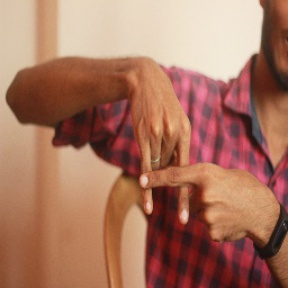H: (128, 119, 220, 228)
